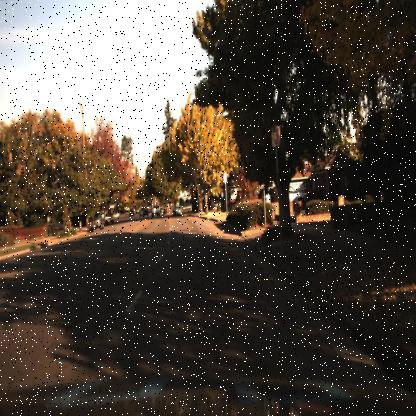car: (261, 182, 305, 212), (84, 205, 105, 236), (88, 211, 105, 232), (170, 203, 185, 220), (151, 204, 162, 220)
